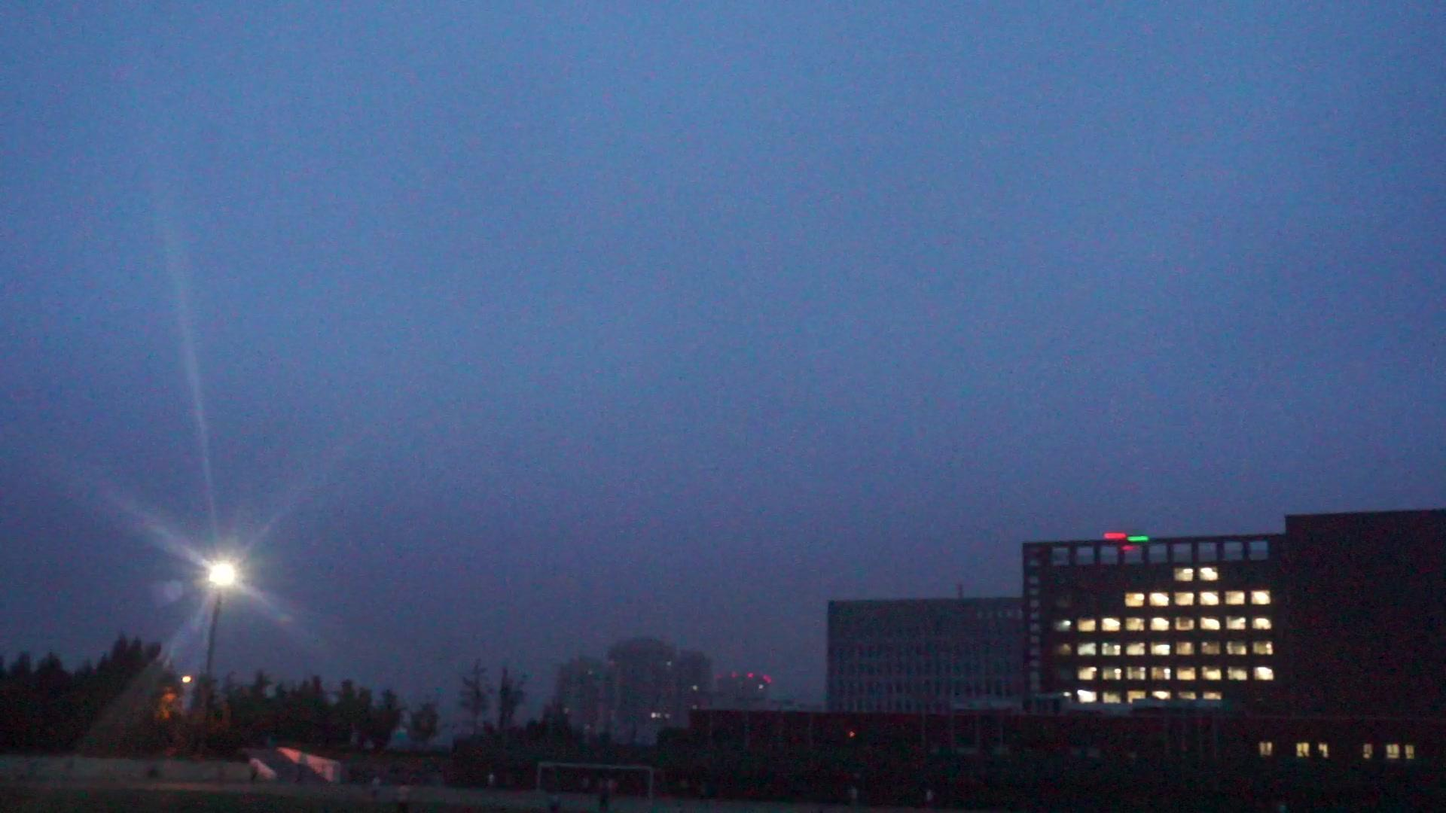UAV: (1104, 533, 1151, 555)
